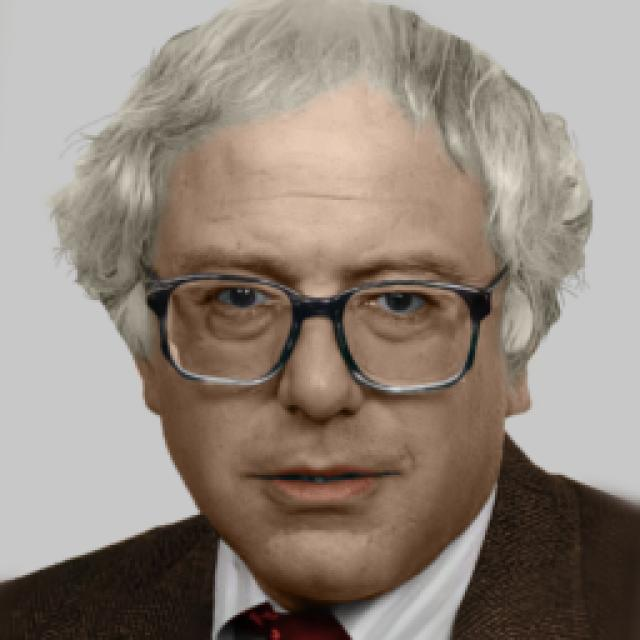glasses: (126, 240, 520, 392)
